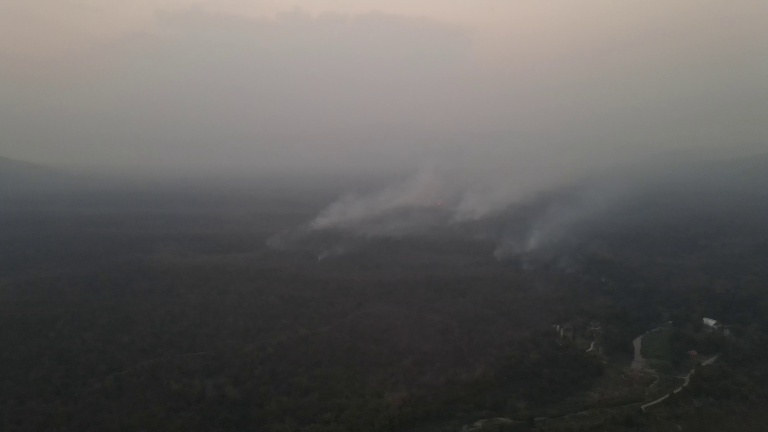fire: (433, 196, 447, 211)
smoke: (304, 128, 610, 266)
